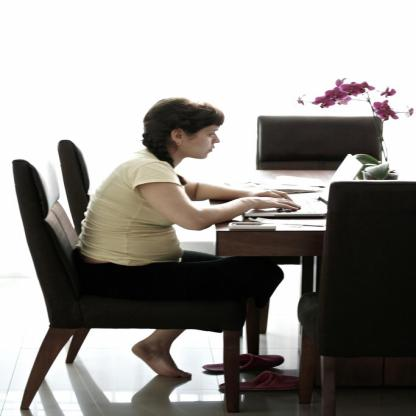board: (244, 154, 364, 219)
